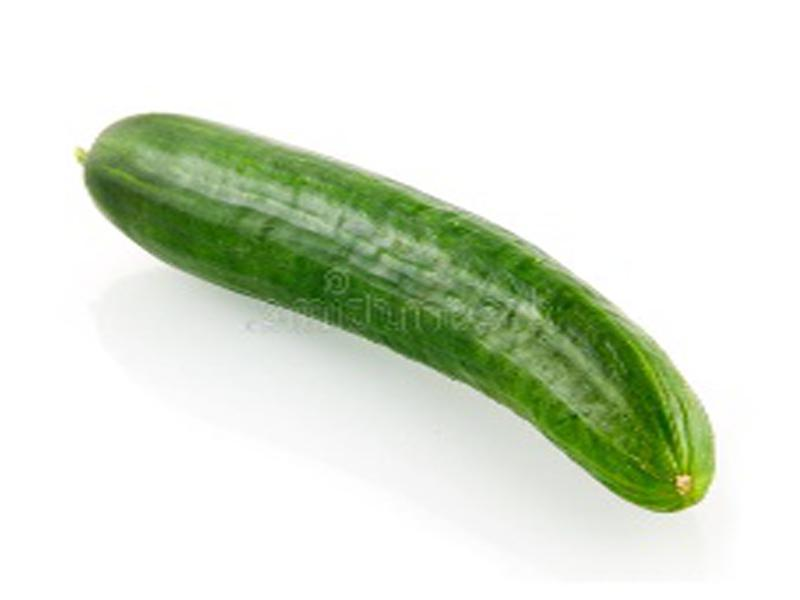Cucumber: (84, 114, 714, 513)
